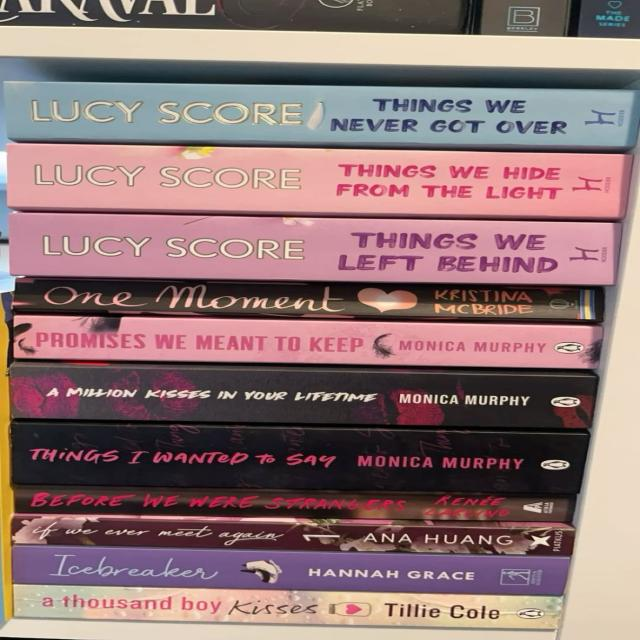book: (8, 143, 631, 219), (10, 212, 619, 285), (4, 81, 639, 151), (12, 422, 588, 498), (11, 363, 597, 429), (14, 316, 601, 369), (14, 546, 569, 595), (14, 278, 603, 322), (12, 514, 573, 558), (16, 486, 572, 530), (15, 585, 561, 629)
